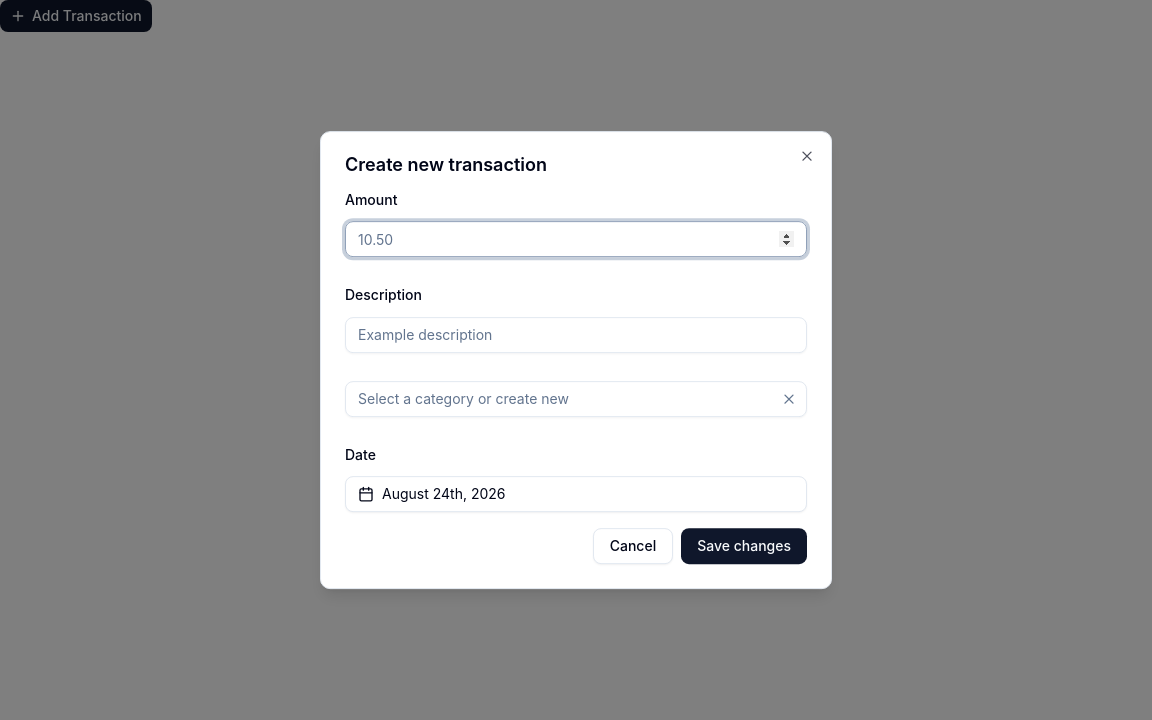
Test: TransactionDialog › shows loading state while submitting
This screenshot has width=1152, height=720.
Type "15.99" into the number field with placeholder "10.50". click: (576, 239)
box: [345, 221, 807, 257]
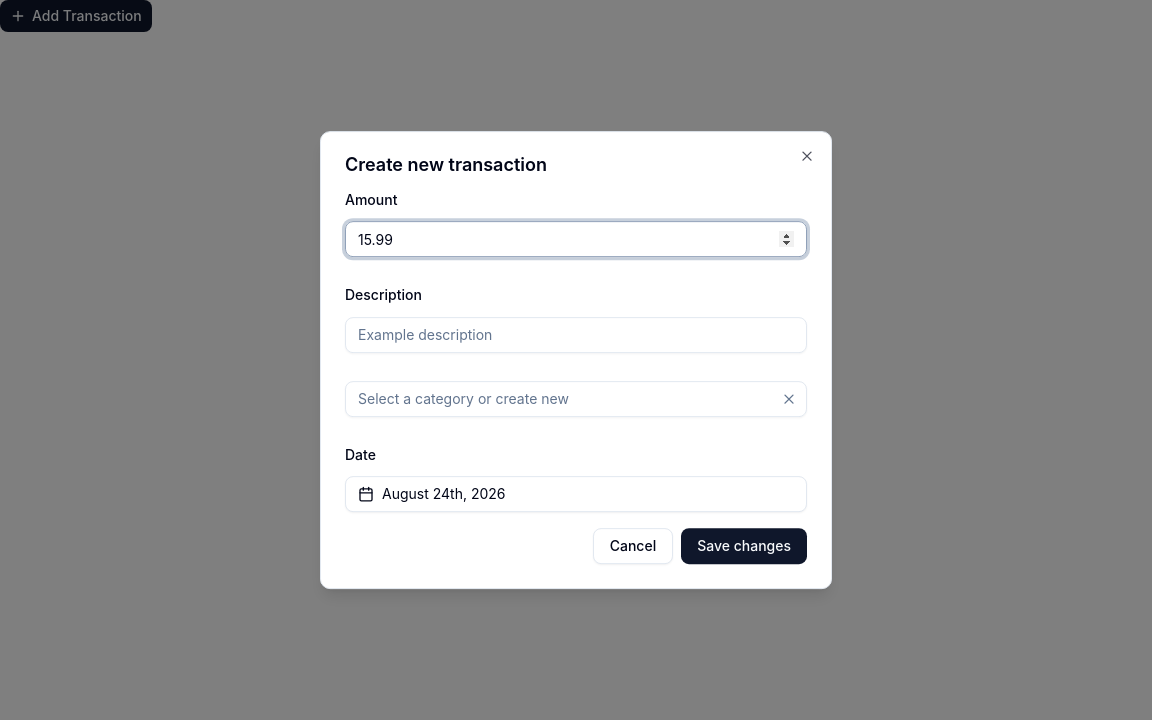
Type "Test Description" into the field with placeholder "Example description". click: (576, 335)
box: [345, 317, 807, 353]
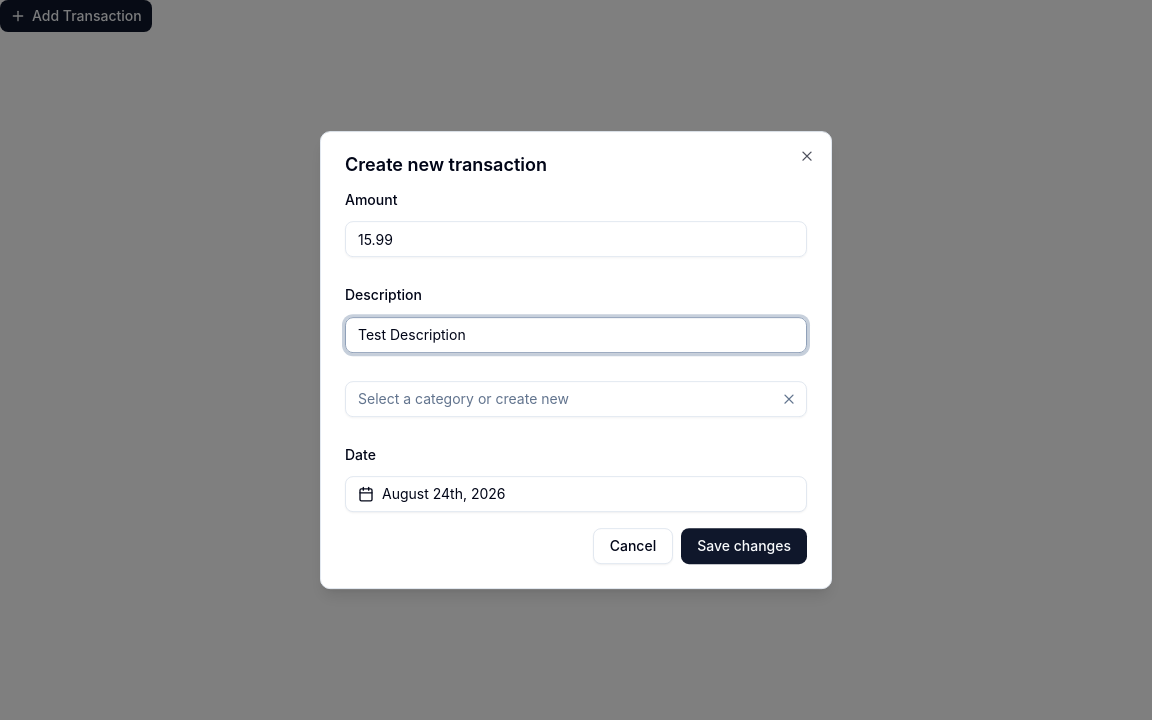
Type "Food" into the dropdown with placeholder "Select a category or create new". click: (562, 399)
box: [346, 381, 777, 417]
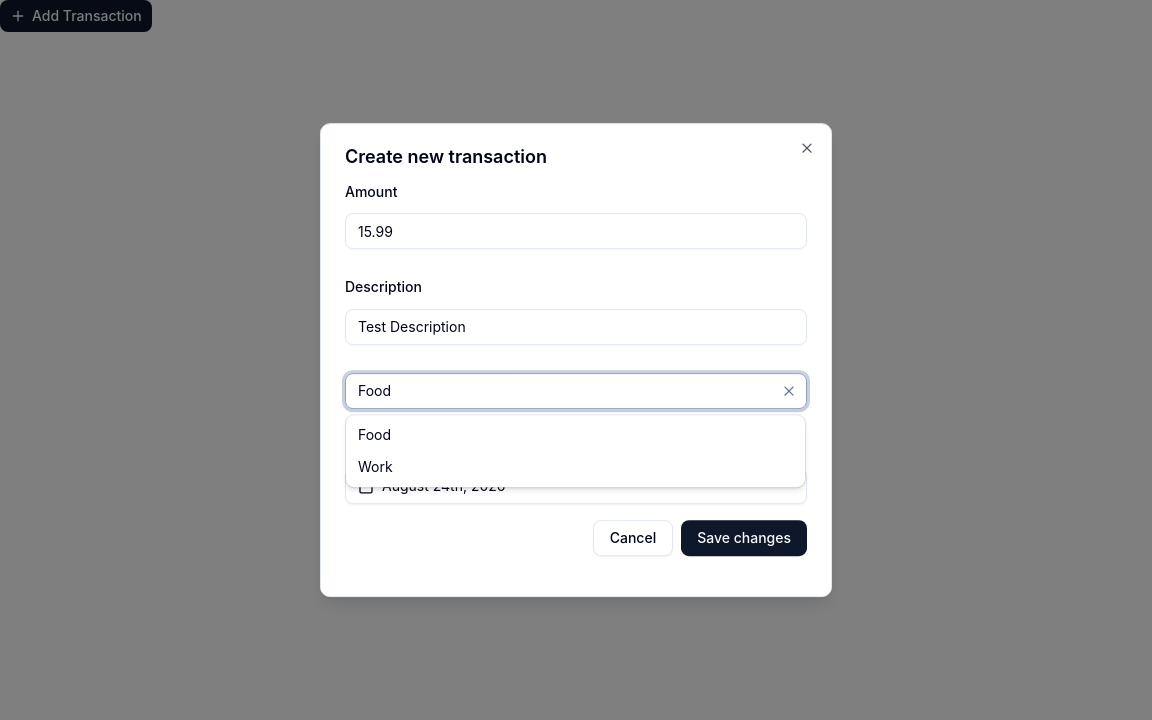
Click the option "Food". click: (375, 435)
box: [358, 426, 391, 443]
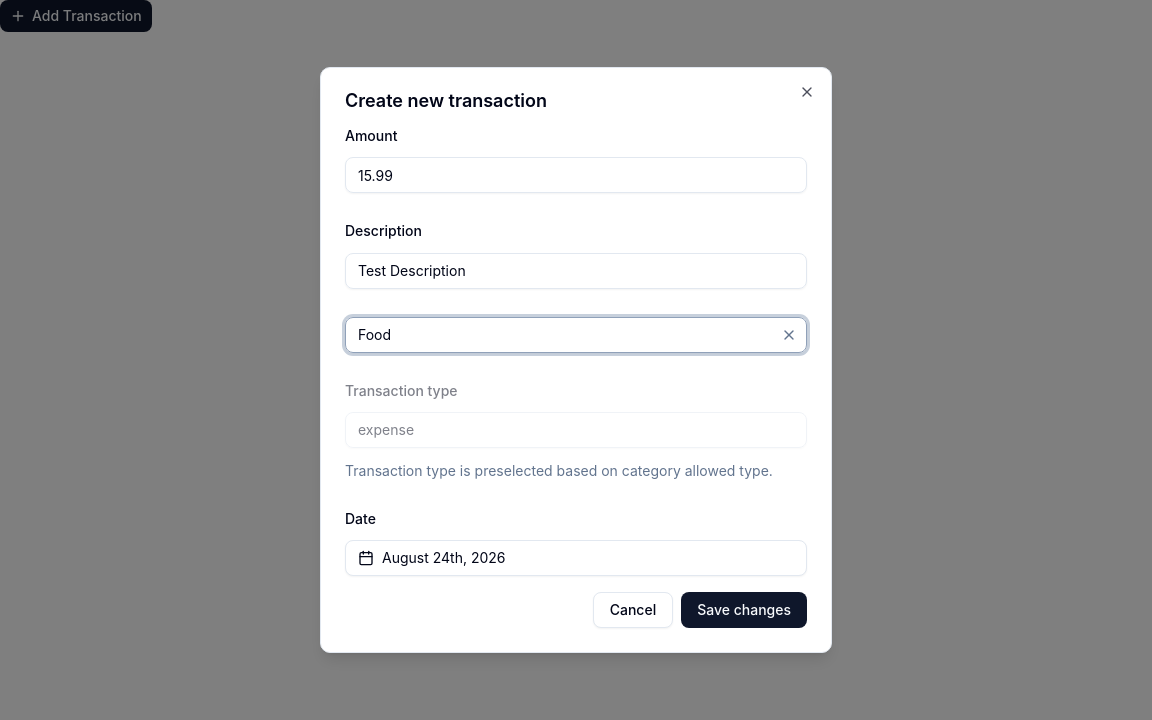
Click the button "Save changes". click: (744, 610)
box: [681, 592, 807, 628]
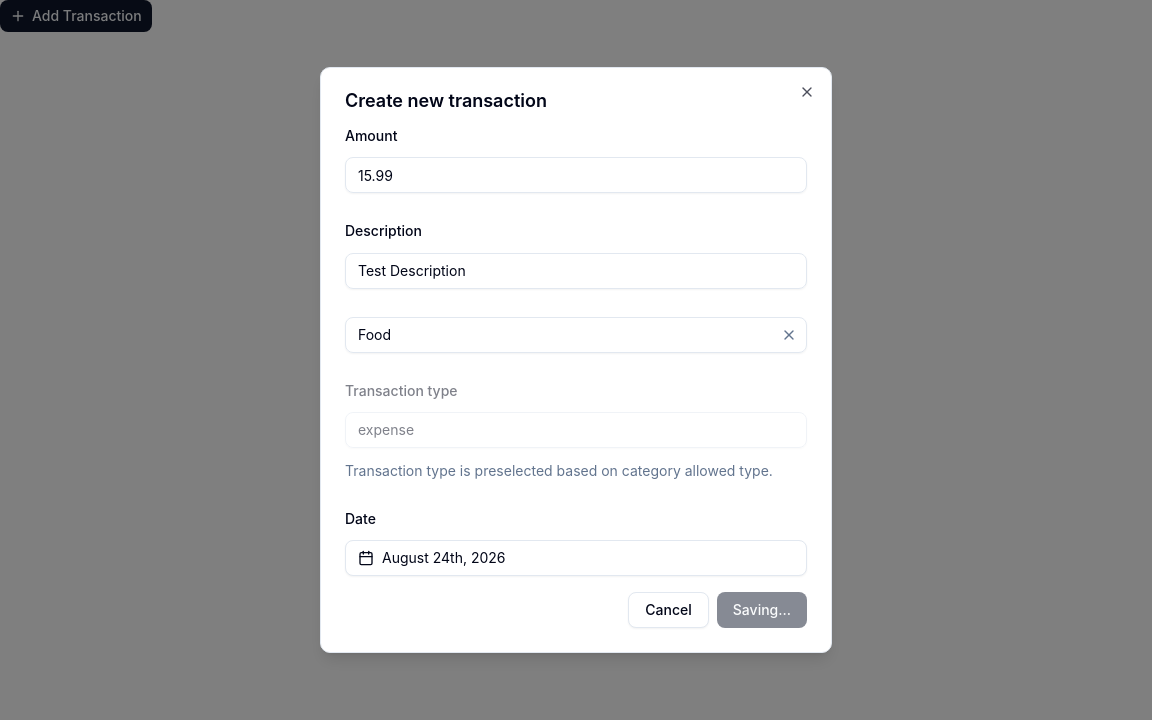
Expected: the button "Saving..." is disabled, [717, 592, 807, 628]
